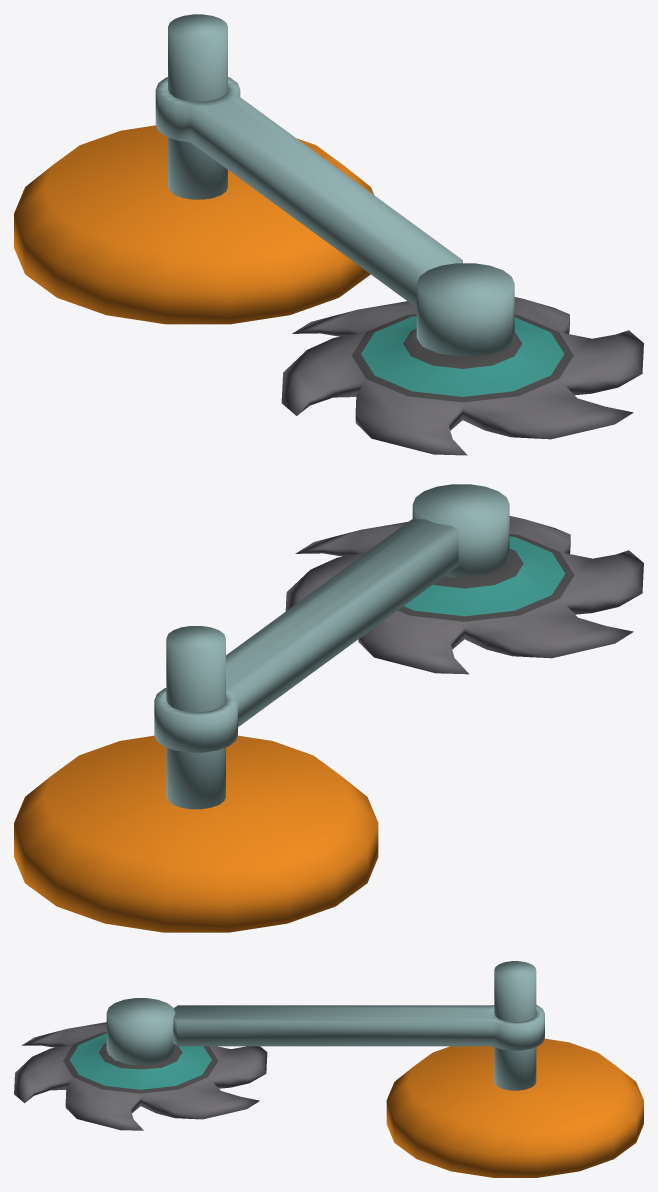
File: saw.fbx
3 views of the same model, one above another, from view 1: azimuth 30°, elevation 25°; view 2: azimuth 150°, elevation 25°; view 3: azimuth 270°, elevation 25° (orthographic). The views are drawn at different scales.
Visible parts, largest first — view 1: handle, saw; view 2: handle, saw; view 3: handle, saw.
Part boxes in pixels (box(x1,y1,x2,y2)): handle: box(14, 14, 514, 356); saw: box(281, 297, 643, 455); handle: box(14, 484, 509, 932); saw: box(285, 516, 643, 674); handle: box(106, 961, 643, 1177); saw: box(14, 1022, 267, 1130).
Size of the model in its own units: 1.11 by 0.6949 by 2.57.
